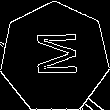M_W: (30, 34, 80, 81)
